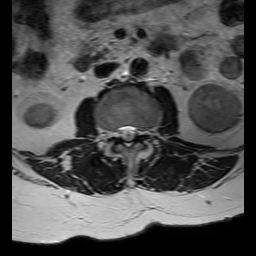CCS_normal: (124, 120, 131, 153)
LFS_normal: (138, 120, 146, 143)
LLS_normal: (131, 120, 138, 147)
RFS_stenosis: (109, 122, 117, 144)
RLS_normal: (117, 120, 124, 146)
